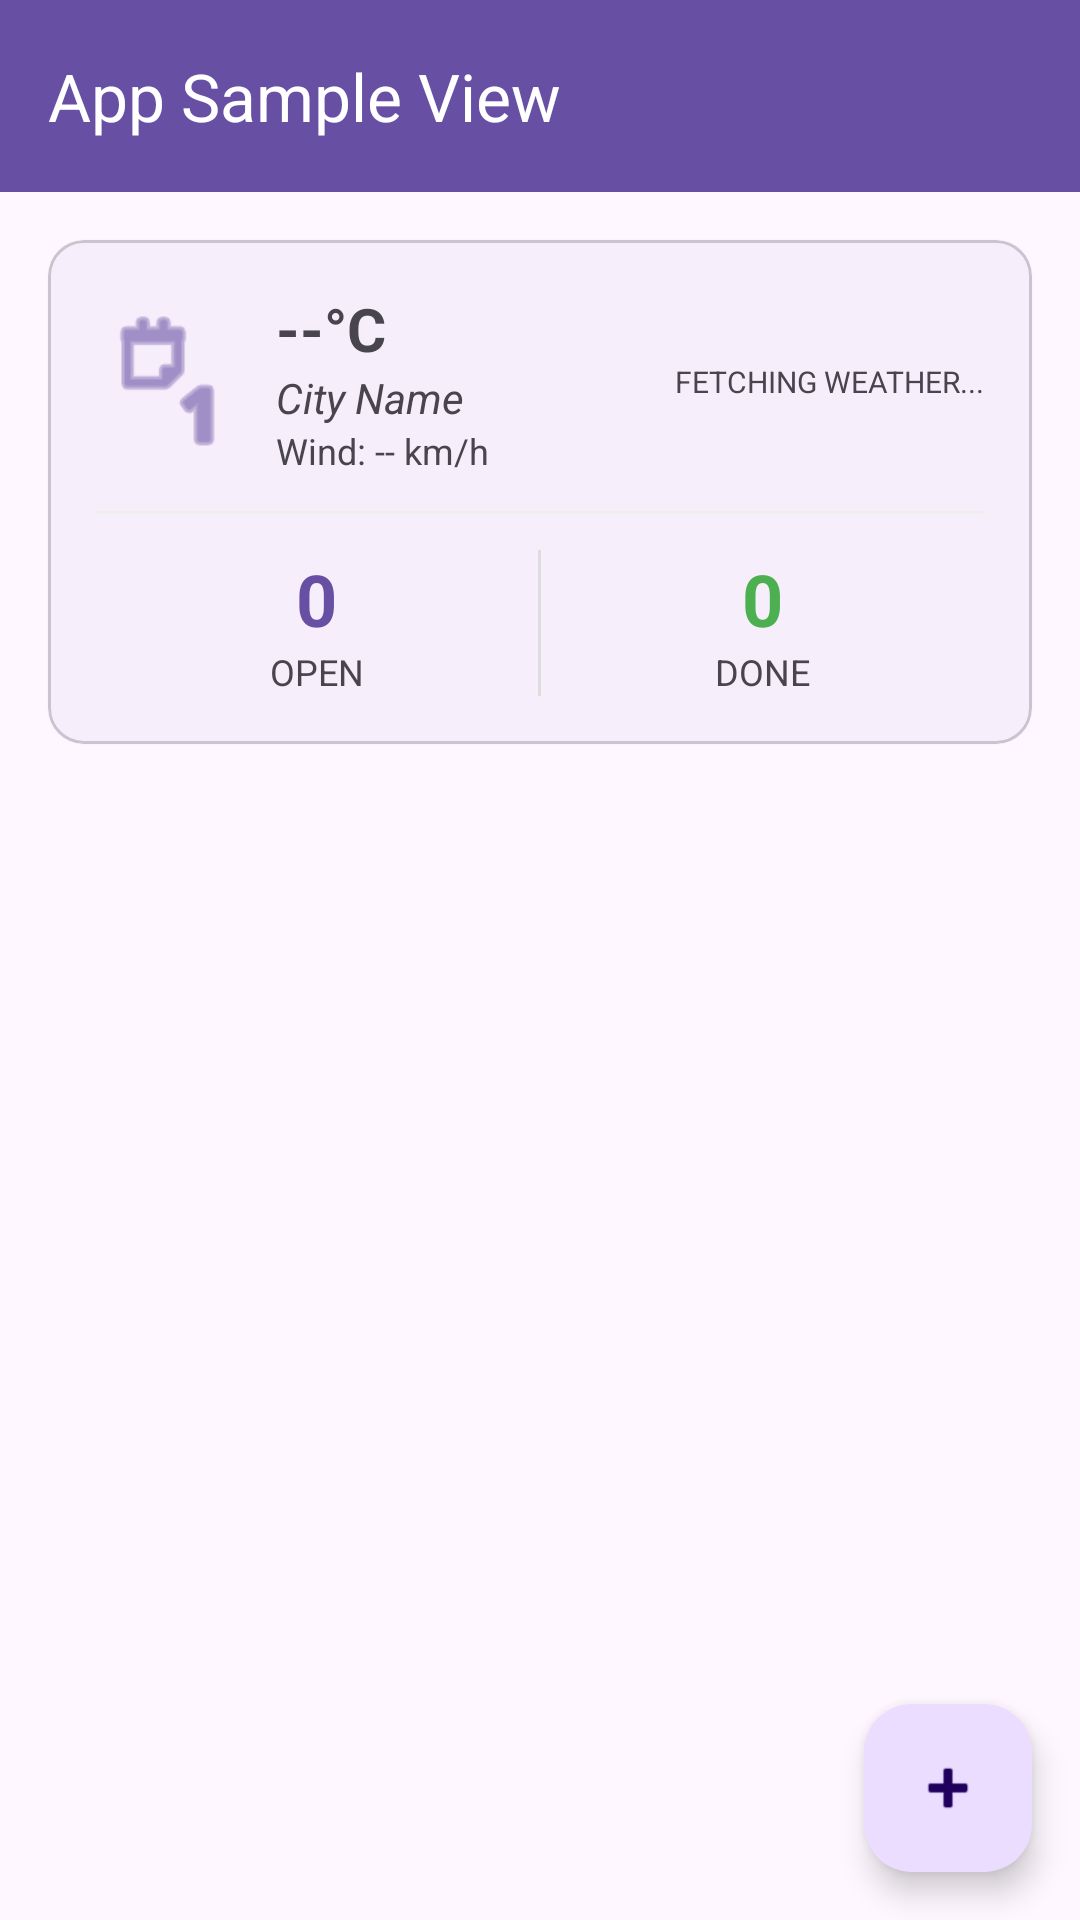

Icons on this 1080*1920 Android screen, each with its box as (x1=x1, y1=y1, x2=x2, y2=y2):
Add Task: (x1=864, y1=1704, x2=1032, y2=1872)
day: (x1=120, y1=316, x2=214, y2=446)
